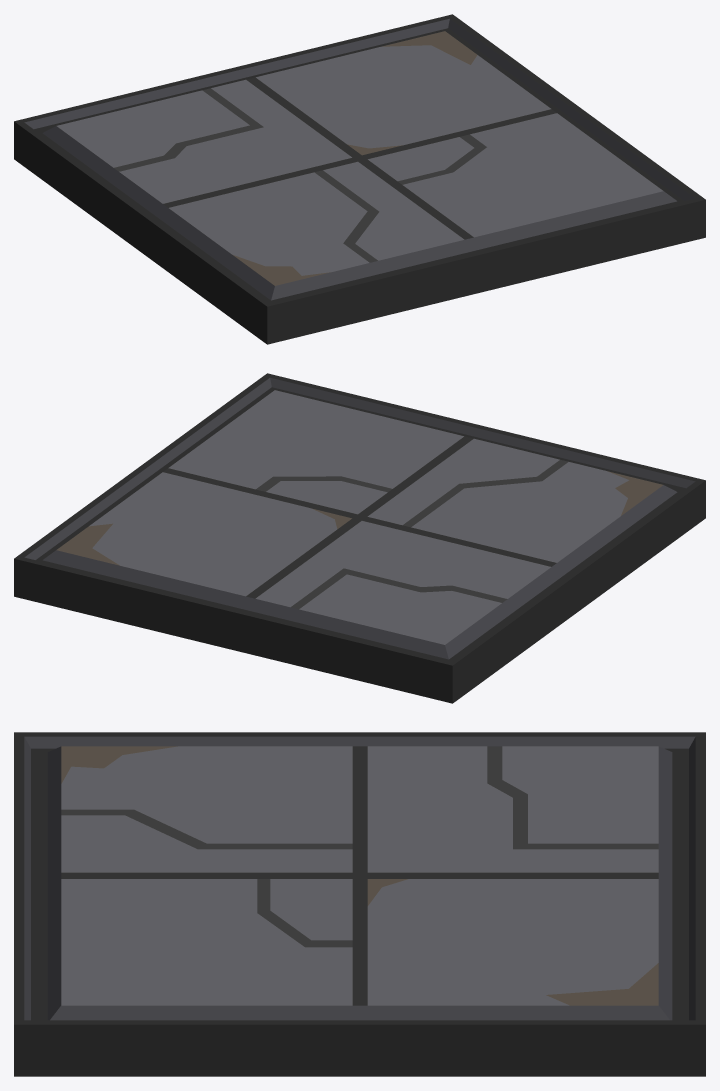
Rendered from SM_Bld_Floor_Small_06.fbx.
3 renders of one model, top to bottom at view 1: azimuth 30°, elevation 25°; view 2: azimuth 150°, elevation 25°; view 3: azimuth 270°, elevation 25°, orthographic. The views are drawn at different scales.
Parts seen in each view (by area): view 1: SM_Bld_Floor_Small_06_LOD0; view 2: SM_Bld_Floor_Small_06_LOD0; view 3: SM_Bld_Floor_Small_06_LOD0.
Boxes of the visible parts, <box> form: SM_Bld_Floor_Small_06_LOD0: <box>14,14,705,344</box>; SM_Bld_Floor_Small_06_LOD0: <box>14,373,705,703</box>; SM_Bld_Floor_Small_06_LOD0: <box>14,732,705,1076</box>.
Bounding box in the file's own units: 250 × 250 × 21.74.
Materials: 1 (1 with a texture image).
